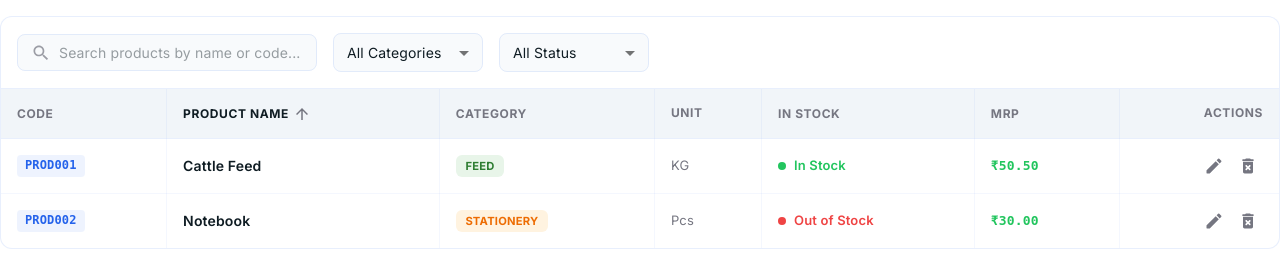
Test: ProductsTable › filters products by category
The image size is (1280, 266).
Expected: the text "Cattle Feed" is shown, [183, 157, 262, 174]
Expected: the text "Notebook" is shown, [183, 212, 250, 229]
Note: Find category filter dropdown
Step 1. Press the mouse on the dropdown labelled "All Categories" → (394, 52), box [347, 44, 442, 61]
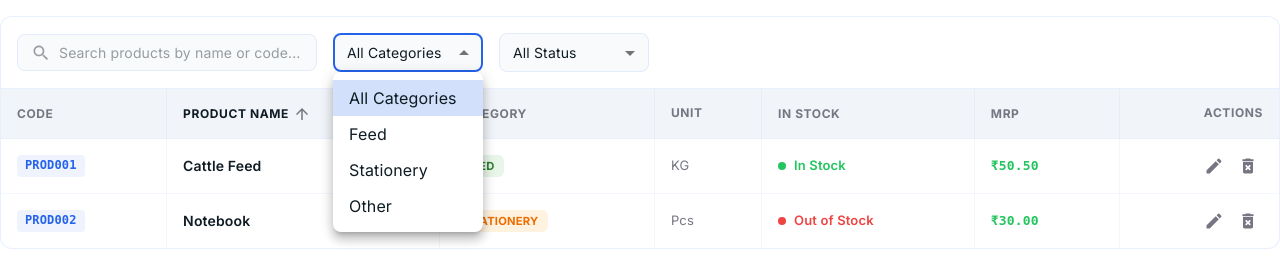
Step 2. Click the option "Feed" → (368, 134), box [349, 124, 387, 144]
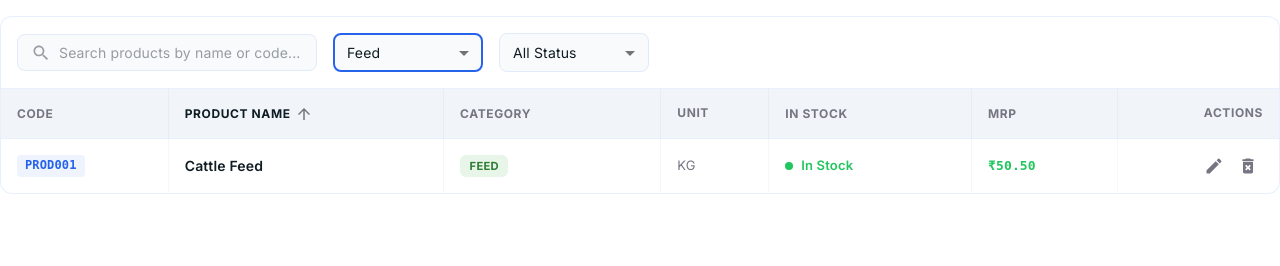
Expected: the text "Cattle Feed" is shown, [185, 157, 263, 174]
Now the text "Notebook" is gone
